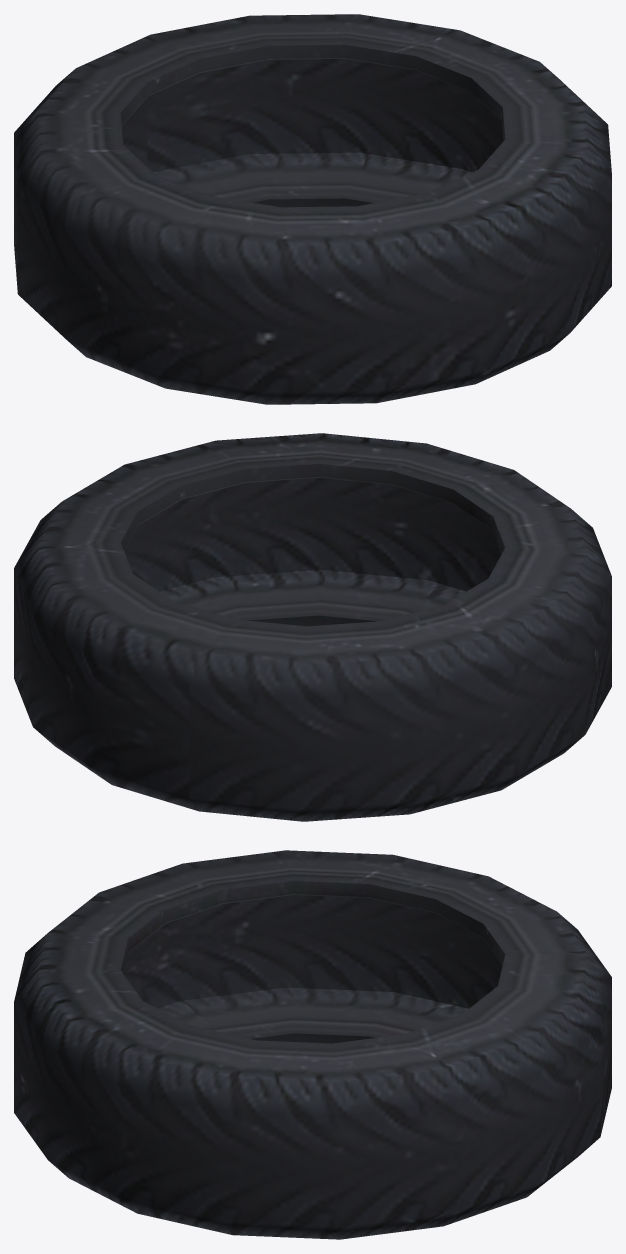
File: Tire_LOD1.fbx
3 renders of one model, top to bottom at view 1: azimuth 30°, elevation 25°; view 2: azimuth 150°, elevation 25°; view 3: azimuth 270°, elevation 25°, orthographic.
Parts seen in each view (by area): view 1: tire_Mesh2; view 2: tire_Mesh2; view 3: tire_Mesh2.
Part boxes in pixels (x1=…): tire_Mesh2: x1=14, y1=14, x2=611, y2=404; tire_Mesh2: x1=14, y1=433, x2=611, y2=821; tire_Mesh2: x1=14, y1=850, x2=611, y2=1239.
Size of the model in its own units: 119 by 36.4 by 119.
